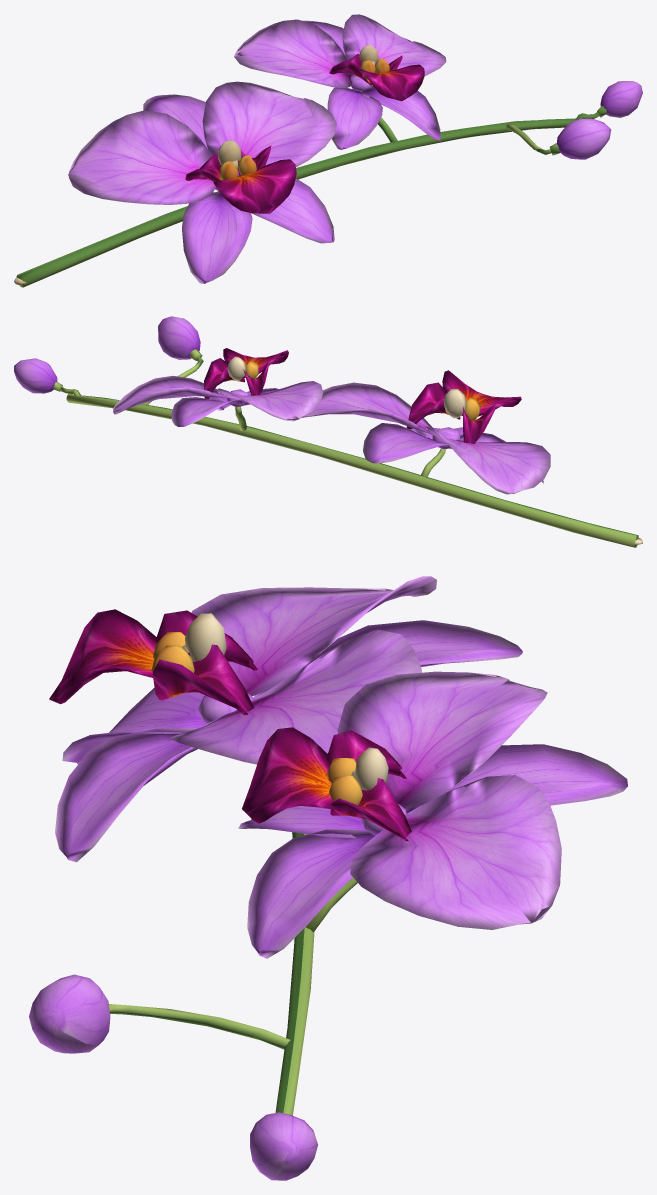
File: NP_Orchid_Harvest_LOD1.fbx
3 renders of one model, top to bottom at view 1: azimuth 30°, elevation 25°; view 2: azimuth 150°, elevation 25°; view 3: azimuth 270°, elevation 25°, orthographic. The views are drawn at different scales.
Parts seen in each view (by area): view 1: NP_Orchid_Harvest; view 2: NP_Orchid_Harvest; view 3: NP_Orchid_Harvest.
Part boxes in pixels (bbox=[...]): NP_Orchid_Harvest: bbox=[14, 14, 642, 287]; NP_Orchid_Harvest: bbox=[14, 316, 642, 547]; NP_Orchid_Harvest: bbox=[29, 576, 627, 1180].
Bounding box in the file's own units: 95.01 × 18.49 × 39.84.
